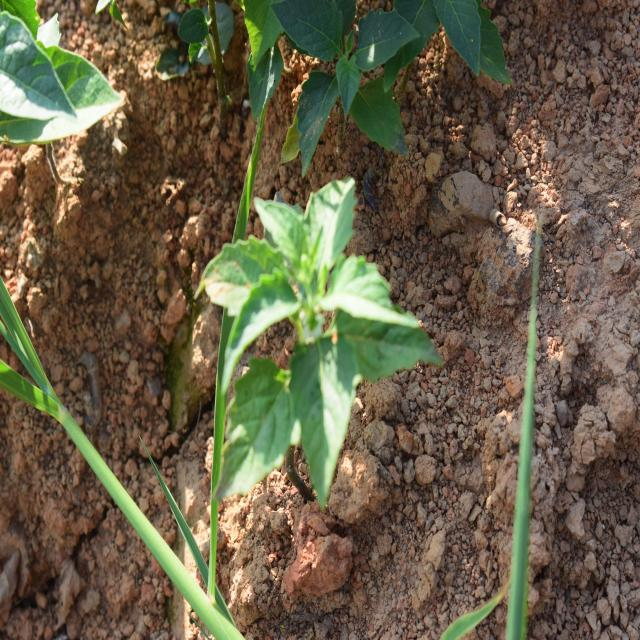Black_nightshade: (208, 190, 416, 460), (288, 0, 446, 159)
